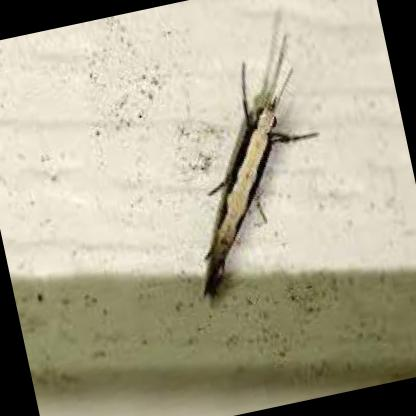plutella: (196, 7, 325, 316)
